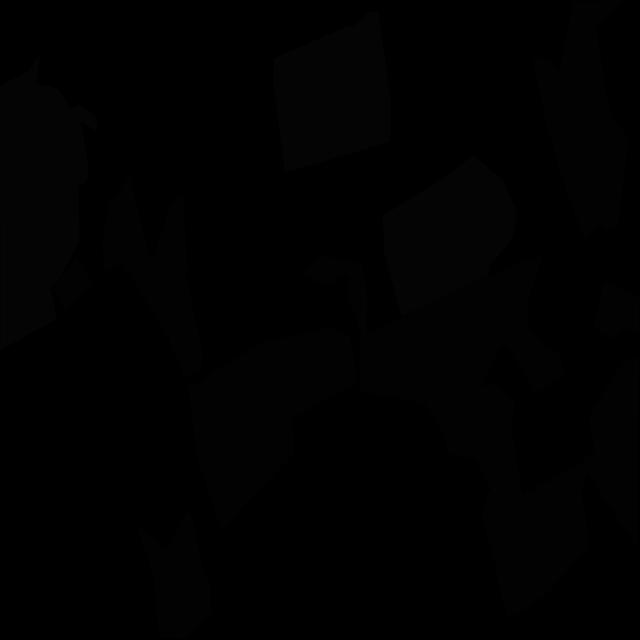cardboard: (300, 253, 565, 460), (188, 328, 357, 529), (52, 176, 203, 378), (532, 0, 630, 239), (477, 426, 589, 620), (580, 281, 640, 549), (136, 509, 212, 639)
soft_plastic: (0, 54, 97, 351), (382, 155, 517, 316), (273, 11, 391, 173)
